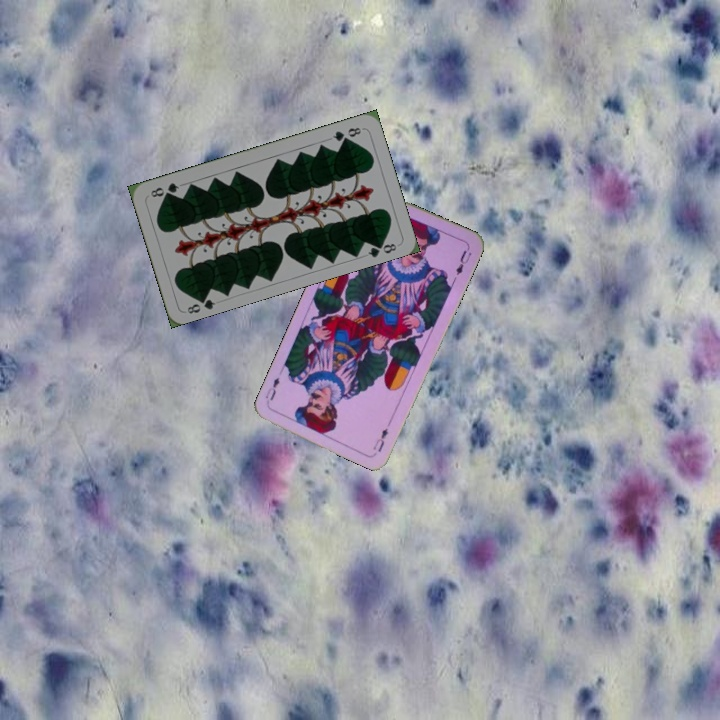EU: (370, 424, 390, 455)
G8: (183, 291, 218, 317), (328, 123, 364, 144)
